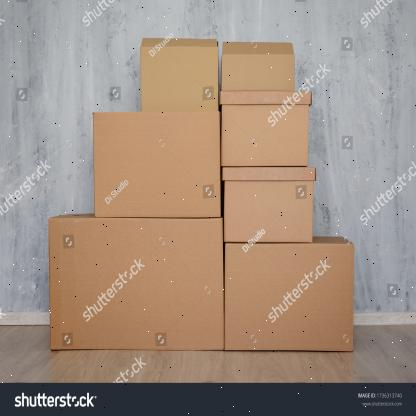box: (50, 217, 223, 351), (225, 241, 354, 353), (92, 112, 220, 218), (222, 167, 315, 243), (220, 91, 312, 166), (140, 45, 218, 113), (220, 53, 294, 92)
